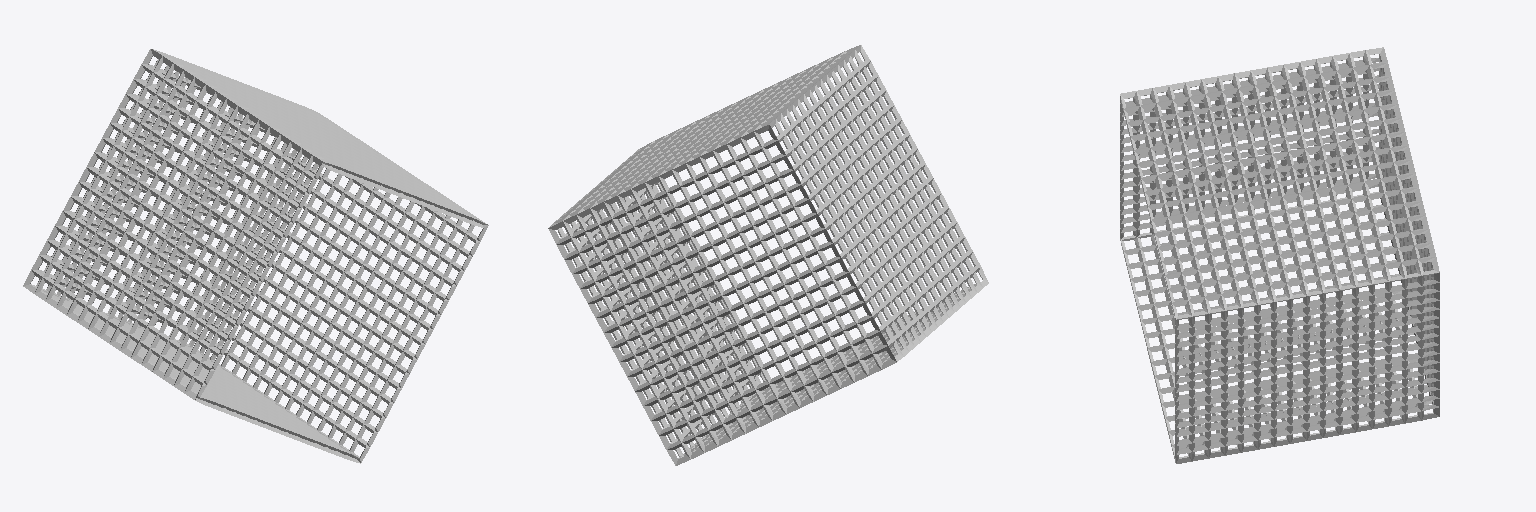
The model's file is Crate.obj.
3 renders of one model, left to right at view 1: azimuth 30°, elevation 25°; view 2: azimuth 150°, elevation 25°; view 3: azimuth 270°, elevation 25°, orthographic.
Parts seen in each view (by area): view 1: Cube.001; view 2: Cube.001; view 3: Cube.001.
Part boxes in pixels (x1,y1,x2,y2): Cube.001: (23, 49, 488, 463); Cube.001: (548, 45, 988, 465); Cube.001: (1120, 47, 1439, 463).
Size of the model in its own units: 8.85 by 8.54 by 6.79.